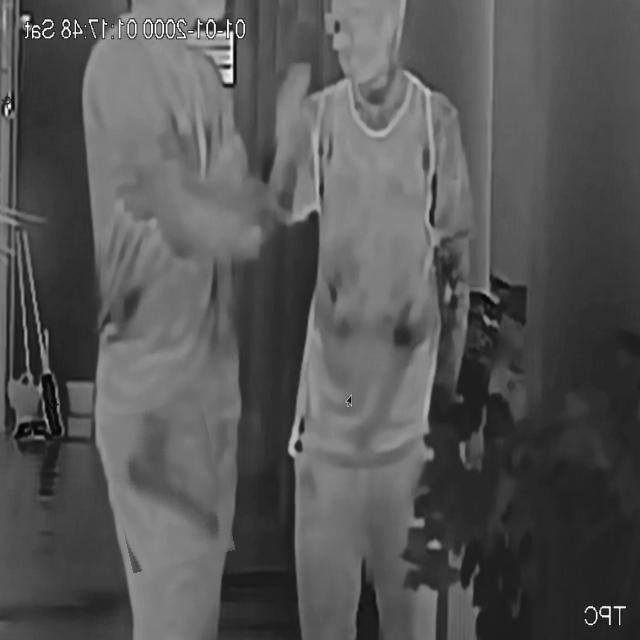Weapon: (107, 404, 228, 568)
